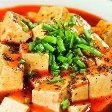mapodoufu: (1, 5, 112, 112)
